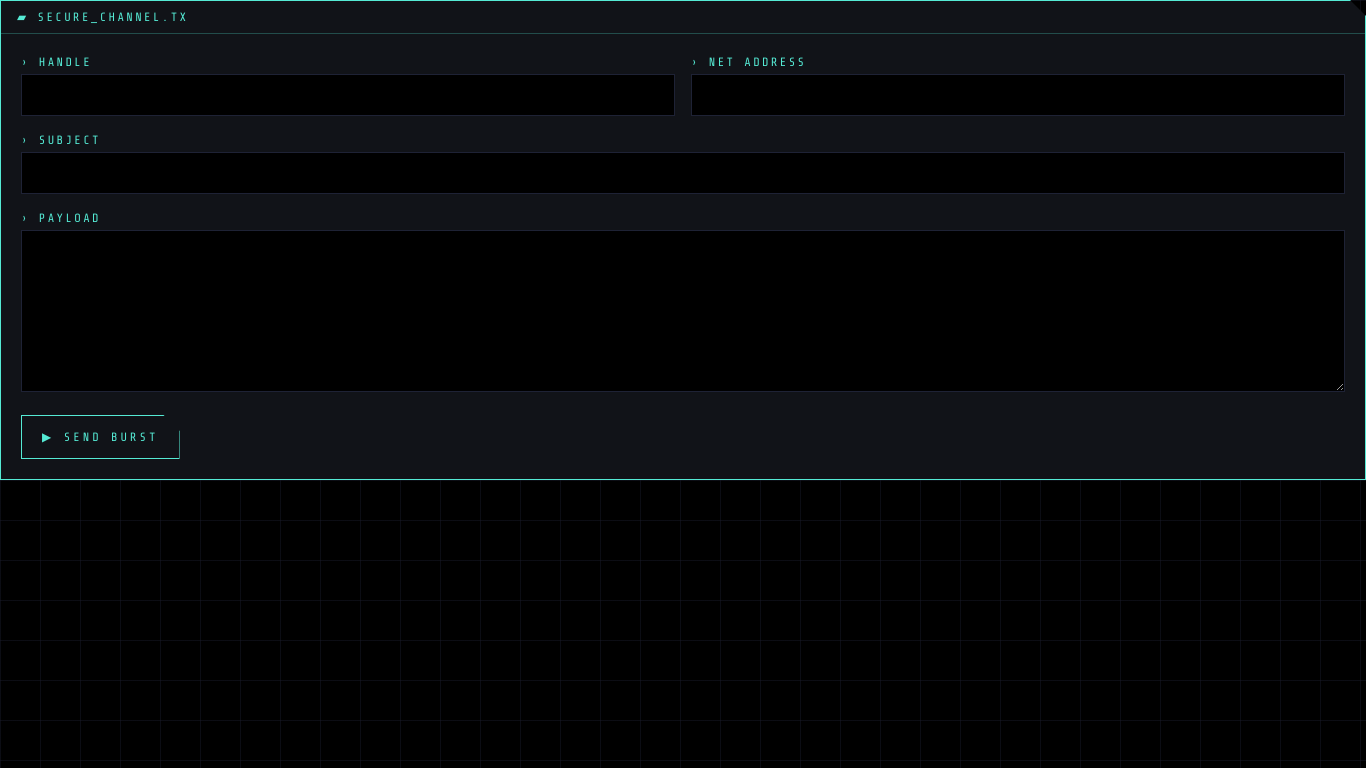
ContactForm › failed submission shows error message
Type "Bob" into the field labelled "› Handle" at (348, 95), box [21, 74, 675, 116]
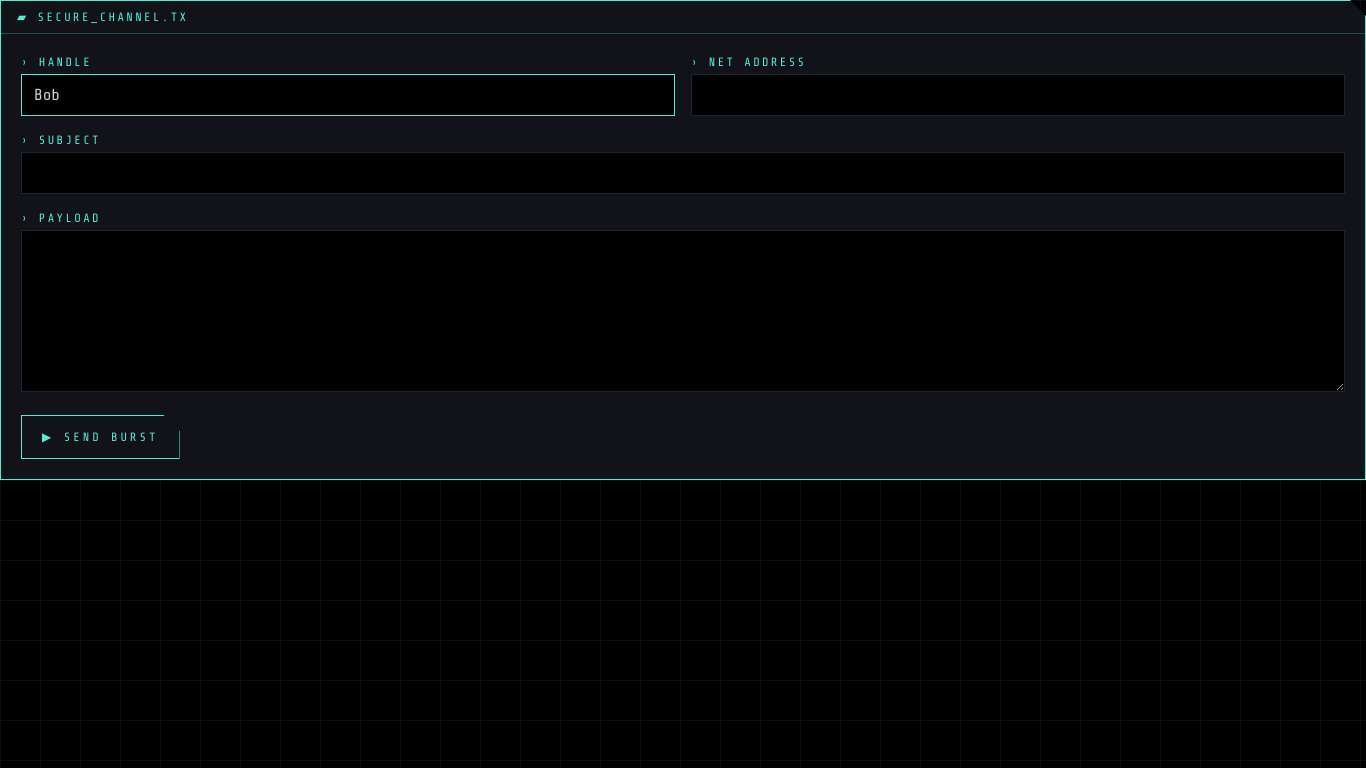
Type "bob@example.com" into the field labelled "› Net Address" at (1018, 95), box [691, 74, 1345, 116]
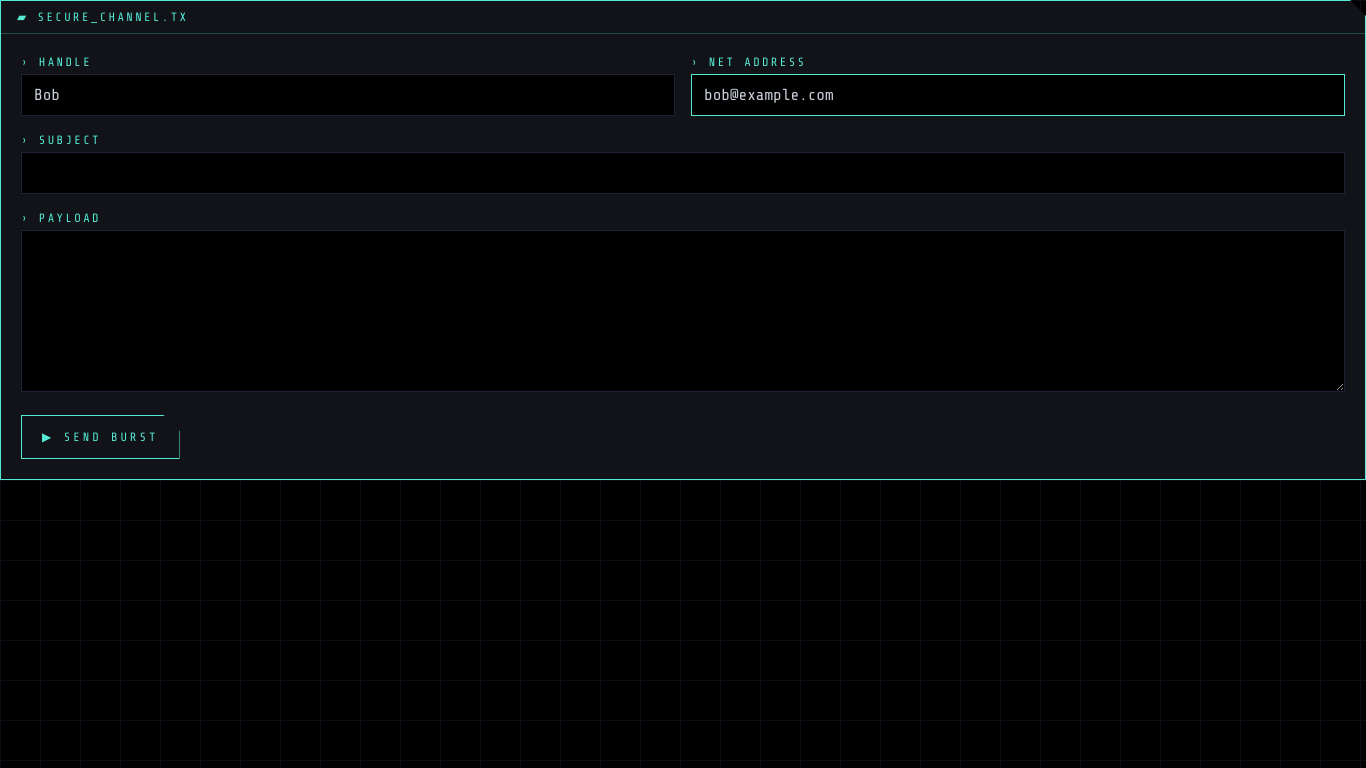
Type "Test" into the field labelled "› Subject" at (683, 173), box [21, 152, 1345, 194]
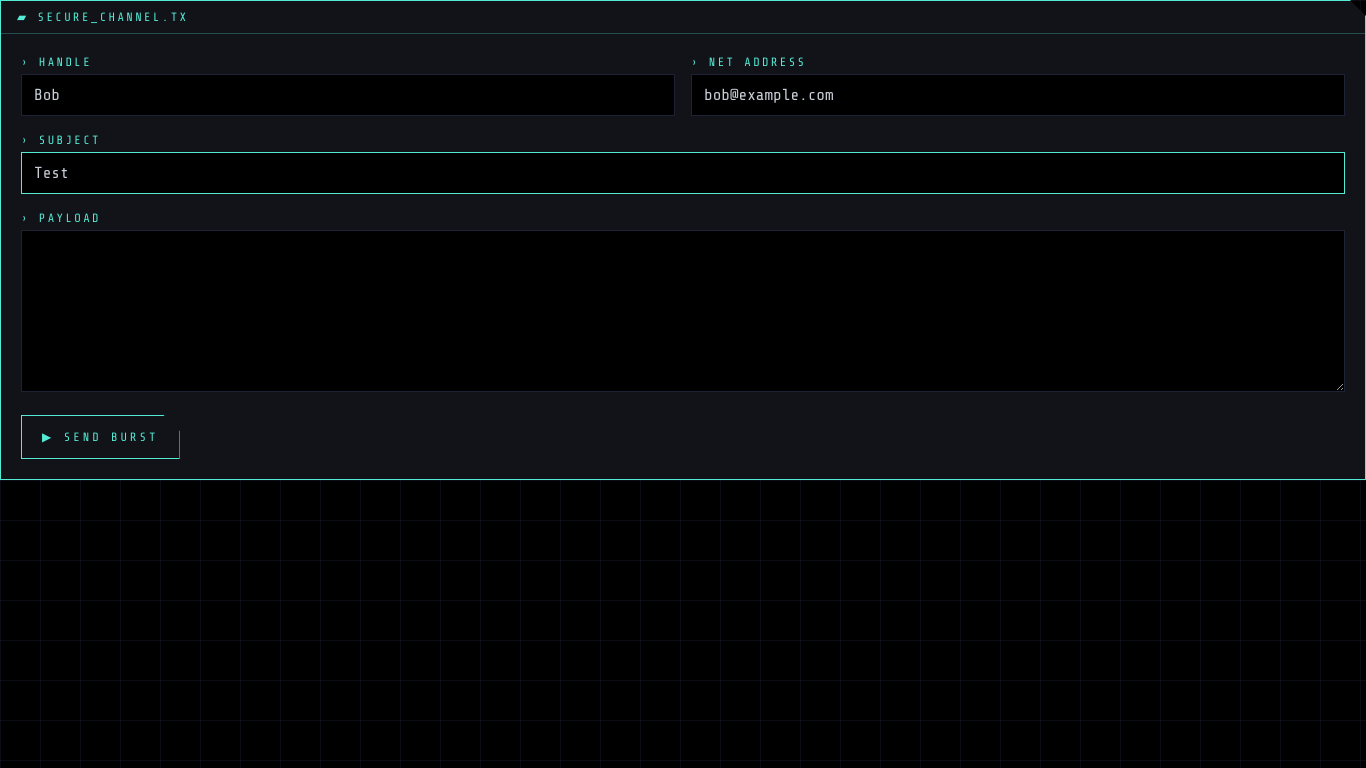
Type "Test body content here" into the text box labelled "› Payload" at (683, 311), box [21, 230, 1345, 392]
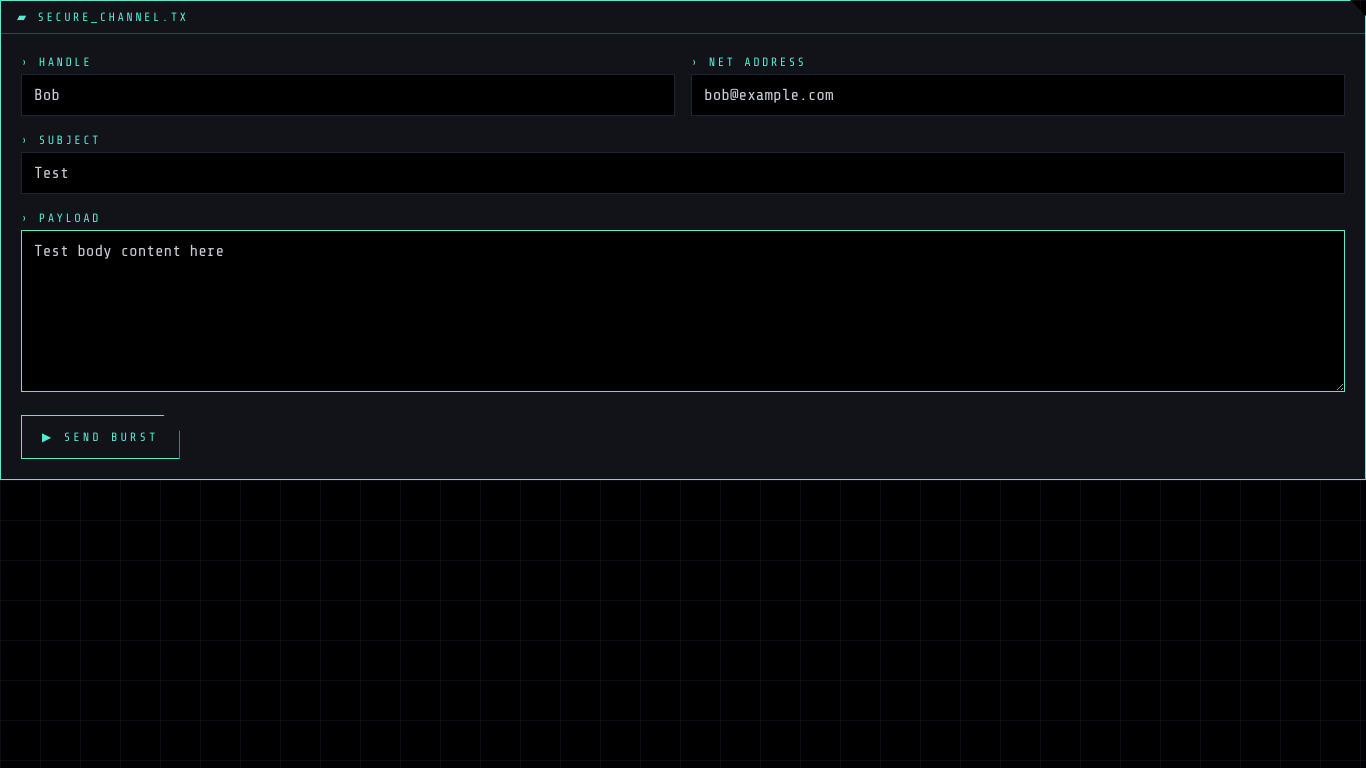
Click the button "▶ Send Burst" at (100, 437), box [21, 415, 180, 459]
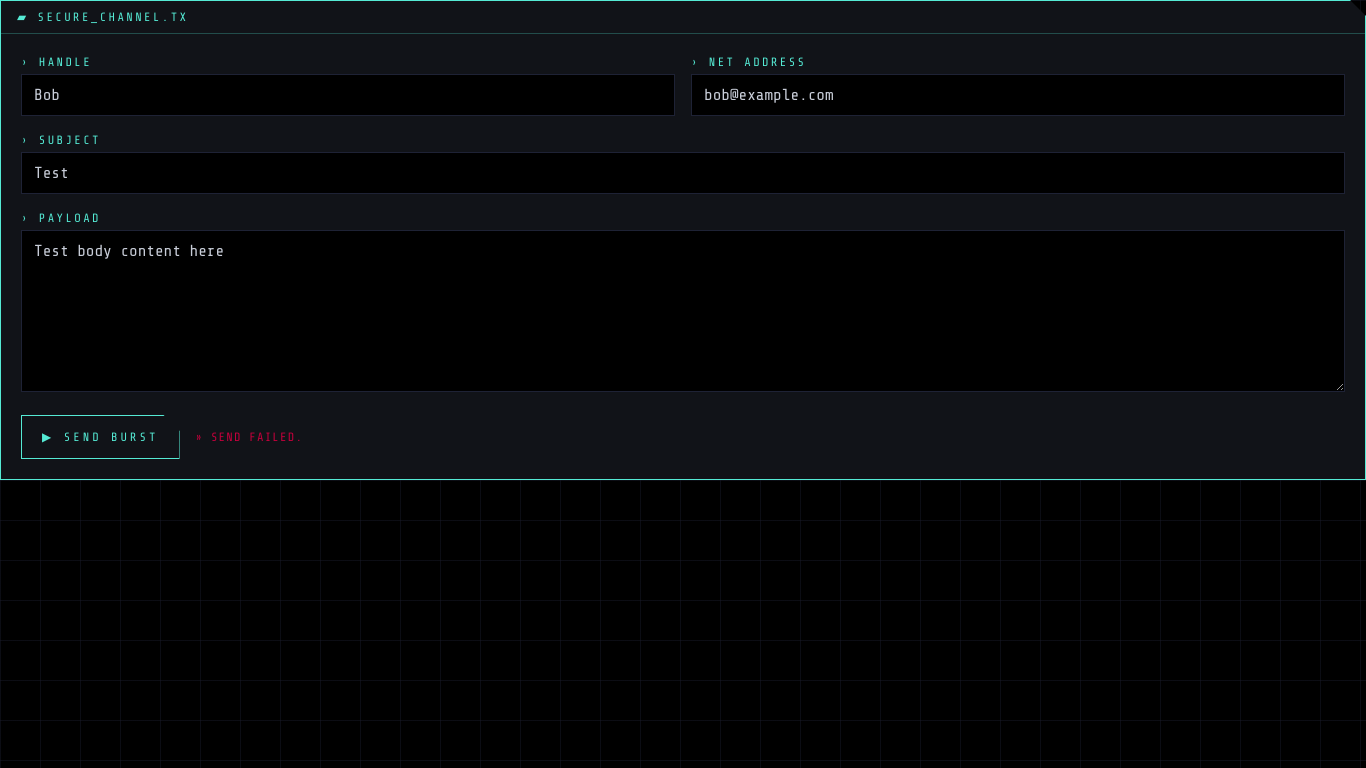
Result: the text "» Send failed." is shown at [196, 429, 303, 445]
